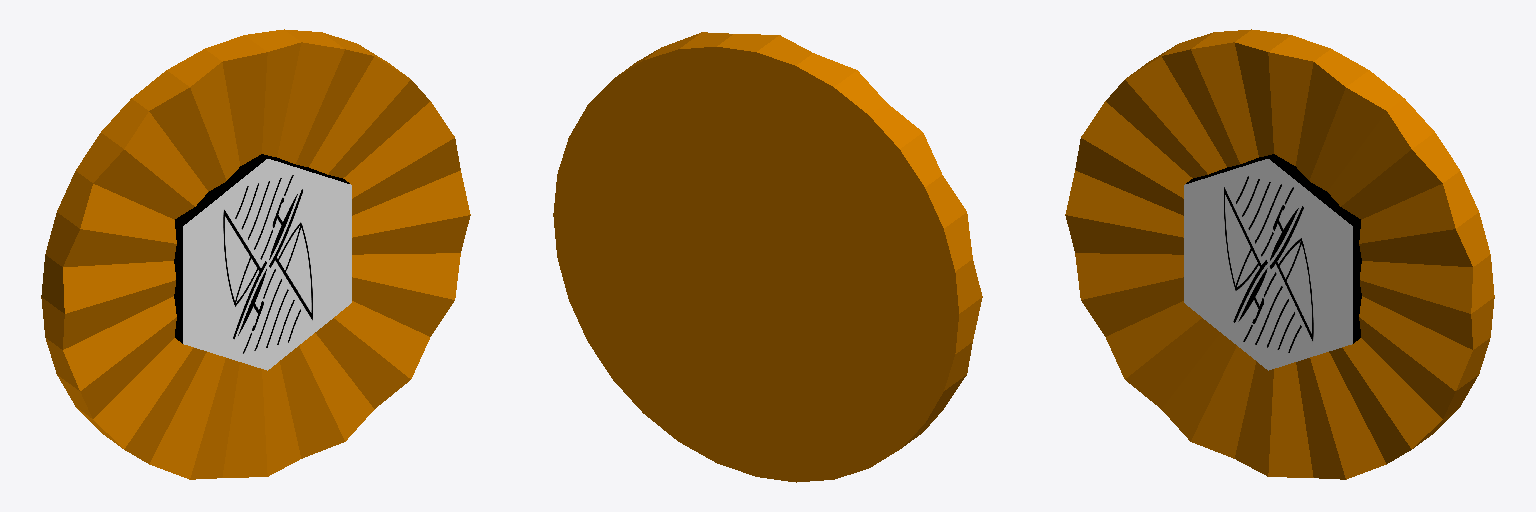
The picture shows the model from 3 angles: view 1: azimuth 30°, elevation 25°; view 2: azimuth 150°, elevation 25°; view 3: azimuth 330°, elevation 25°; orthographic projection.
Parts seen in each view (by area): view 1: Cylinder; view 2: Cylinder; view 3: Cylinder.
Part boxes in pixels (x1,y1,x2,y2): Cylinder: (41,29,470,479); Cylinder: (553,32,982,482); Cylinder: (1065,29,1494,479).
Bounding box in the file's own units: 10 × 10 × 1.
Materials: 3 (1 with a texture image).